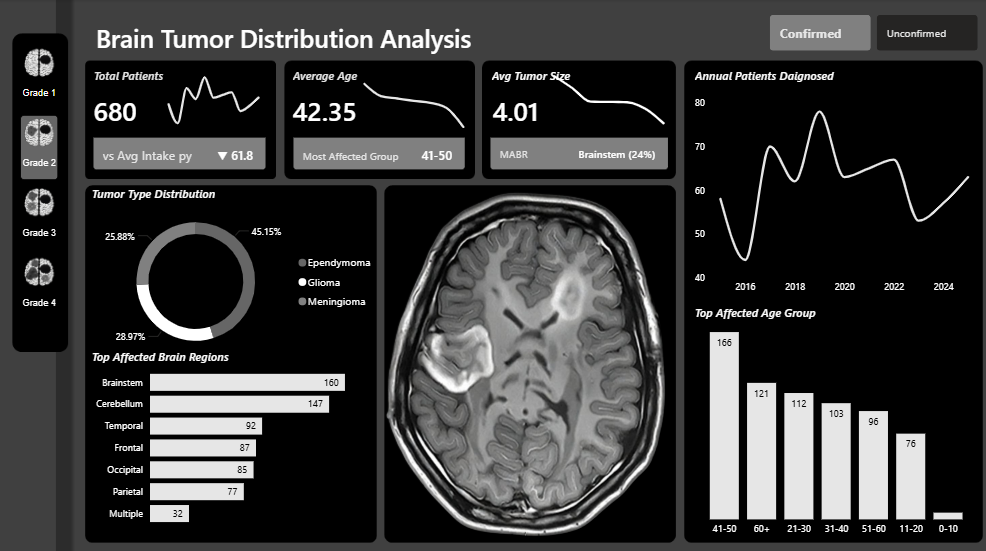

The page's visual inventory and layout, read from the dashboard file:
{"tool":"powerbi","page":{"name":"Page 1","canvas":[1280,720],"ordinal":0},"visuals":[{"type":"cardVisual","fields":{"Data":["Count(Brain Tumor Data.Patient ID)"]},"box":[92.1,96.4,137.5,89.3],"z":0},{"type":"lineChart","fields":{"Category":["Brain Tumor Data.Date of Diagnosis.Variation.Date Hierarchy.Year"],"Y":["CountNonNull(Brain Tumor Data.Patient ID)"]},"box":[202.7,83.6,146,89.3],"z":1000},{"type":"cardVisual","fields":{"Data":["Count(Brain Tumor Data.Patient ID)"]},"box":[92.1,83.6,280.6,165.8],"z":2000},{"type":"textbox","box":[116.2,83.6,113.4,45.4],"z":3000},{"type":"cardVisual","fields":{"Data":["Avg(Brain Tumor Data.Age)"]},"box":[348.7,96.4,151.7,89.3],"z":4000},{"type":"lineChart","fields":{"Y":["CountNonNull(Brain Tumor Data.Patient ID)"],"Category":["Brain Tumor Data.Age Group"]},"box":[456.4,83.6,154.5,89.3],"z":5000},{"type":"cardVisual","fields":{"Data":["Count(Brain Tumor Data.Patient ID)"]},"box":[350.1,83.6,279.2,165.8],"z":6000},{"type":"textbox","box":[372.8,83.6,113.4,45.4],"z":7000},{"type":"textbox","box":[629.3,83.6,113.4,45.4],"z":8000},{"type":"cardVisual","fields":{"Data":["Count(Brain Tumor Data.Patient ID)"]},"box":[603.8,83.6,287.7,165.8],"z":9000},{"type":"cardVisual","fields":{"Data":["Avg(Brain Tumor Data.Tumor Size (cm))"]},"box":[606.6,96.4,141.7,89.3],"z":10000},{"type":"lineChart","fields":{"Y":["Avg(Brain Tumor Data.Tumor Size (cm))"],"Category":["Brain Tumor Data.Affected Brain Region"]},"box":[700.2,83.6,170.1,89.3],"z":11000},{"type":"advancedSlicerVisual","fields":{"Values":["Brain Tumor Data.Histology Confirmation"]},"box":[987.9,15.6,279.2,56.7],"z":12000},{"type":"ChicletSlicer1448559807354","fields":{"Category":["Tumor Images.Tumor Grade"],"Image":["Tumor Images.Icon URL"]},"box":[18.4,51,73.7,395.4],"z":13000},{"type":"imageDB603108E3FF4EBFB8047F5653368E8C","fields":{"imageUrl":["Tumor Images.Image URL"]},"box":[490.4,236.7,379.8,464.9],"z":14000},{"type":"donutChart","fields":{"Category":["Brain Tumor Data.Tumor Type"],"Y":["CountNonNull(Brain Tumor Data.Patient ID)"]},"box":[116.2,249.4,377,231],"z":15000},{"type":"textbox","box":[113.4,236.7,177.2,45.4],"z":16000},{"type":"clusteredBarChart","fields":{"Category":["Brain Tumor Data.Affected Brain Region"],"Y":["CountNonNull(Brain Tumor Data.Patient ID)"]},"box":[113.4,459.2,367.1,232.4],"z":17000},{"type":"textbox","box":[113.4,446.5,205.5,45.4],"z":18000},{"type":"lineChart","fields":{"Y":["CountNonNull(Brain Tumor Data.Patient ID)"],"Category":["Brain Tumor Data.Date of Diagnosis.Variation.Date Hierarchy.Year"]},"box":[891.5,120.5,375.6,269.3],"z":19000},{"type":"textbox","box":[891.5,83.6,205.5,36.9],"z":20000},{"type":"clusteredColumnChart","fields":{"Category":["Brain Tumor Data.Age Group"],"Y":["CountNonNull(Brain Tumor Data.Patient ID)"]},"box":[891.5,389.8,375.6,311.8],"z":21000},{"type":"textbox","box":[891.5,389.8,188.5,39.7],"z":22000},{"type":"textbox","box":[119.1,22.7,521.6,60.9],"z":22001}]}

Visuals, with their boxes in screenshot pixels (x1, y1, x2, y2), scaled from the page's 1280x720 canvas onto the 986x551 screenshot:
cardVisual - Count(Brain Tumor Data.Patient ID): (left=71, top=74, right=177, bottom=142)
lineChart - Brain Tumor Data.Date of Diagnosis.Variation.Date Hierarchy.Year x CountNonNull(Brain Tumor Data.Patient ID): (left=156, top=64, right=269, bottom=132)
cardVisual - Count(Brain Tumor Data.Patient ID): (left=71, top=64, right=287, bottom=191)
textbox: (left=90, top=64, right=177, bottom=99)
cardVisual - Avg(Brain Tumor Data.Age): (left=269, top=74, right=385, bottom=142)
lineChart - CountNonNull(Brain Tumor Data.Patient ID) x Brain Tumor Data.Age Group: (left=352, top=64, right=471, bottom=132)
cardVisual - Count(Brain Tumor Data.Patient ID): (left=270, top=64, right=485, bottom=191)
textbox: (left=287, top=64, right=375, bottom=99)
textbox: (left=485, top=64, right=572, bottom=99)
cardVisual - Count(Brain Tumor Data.Patient ID): (left=465, top=64, right=687, bottom=191)
cardVisual - Avg(Brain Tumor Data.Tumor Size (cm)): (left=467, top=74, right=576, bottom=142)
lineChart - Avg(Brain Tumor Data.Tumor Size (cm)) x Brain Tumor Data.Affected Brain Region: (left=539, top=64, right=670, bottom=132)
advancedSlicerVisual - Brain Tumor Data.Histology Confirmation: (left=761, top=12, right=976, bottom=55)
ChicletSlicer1448559807354 - Tumor Images.Tumor Grade x Tumor Images.Icon URL: (left=14, top=39, right=71, bottom=342)
imageDB603108E3FF4EBFB8047F5653368E8C - Tumor Images.Image URL: (left=378, top=181, right=670, bottom=537)
donutChart - Brain Tumor Data.Tumor Type x CountNonNull(Brain Tumor Data.Patient ID): (left=90, top=191, right=380, bottom=368)
textbox: (left=87, top=181, right=224, bottom=216)
clusteredBarChart - Brain Tumor Data.Affected Brain Region x CountNonNull(Brain Tumor Data.Patient ID): (left=87, top=351, right=370, bottom=529)
textbox: (left=87, top=342, right=246, bottom=376)
lineChart - CountNonNull(Brain Tumor Data.Patient ID) x Brain Tumor Data.Date of Diagnosis.Variation.Date Hierarchy.Year: (left=687, top=92, right=976, bottom=298)
textbox: (left=687, top=64, right=845, bottom=92)
clusteredColumnChart - Brain Tumor Data.Age Group x CountNonNull(Brain Tumor Data.Patient ID): (left=687, top=298, right=976, bottom=537)
textbox: (left=687, top=298, right=832, bottom=329)
textbox: (left=92, top=17, right=494, bottom=64)
